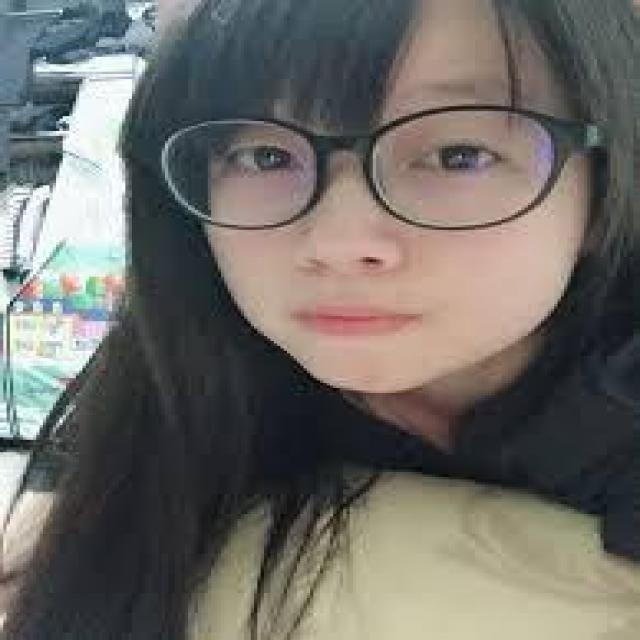Glasses: (154, 99, 604, 237)
